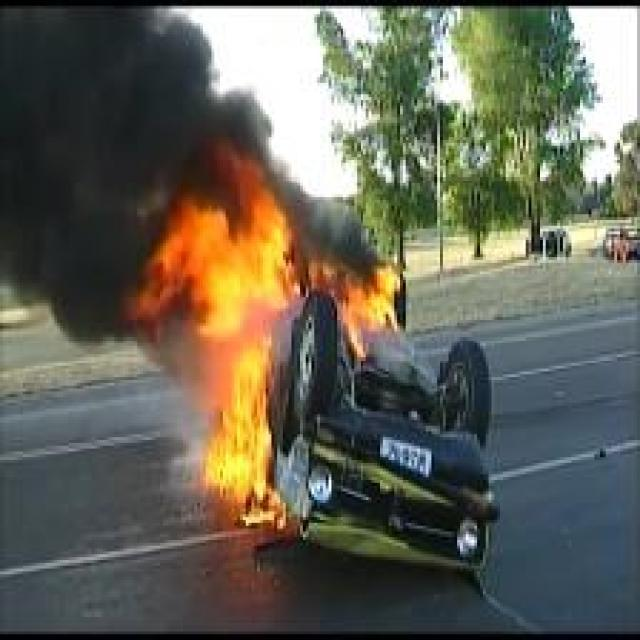Fire: (128, 148, 303, 532), (306, 262, 400, 358)
